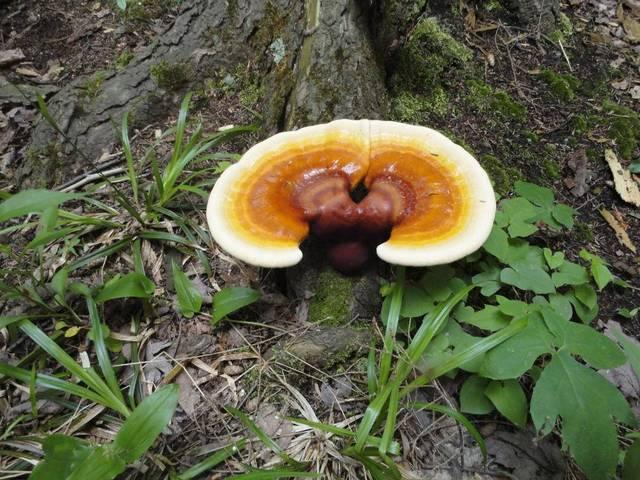Non-edible Mushroom: (204, 117, 497, 272)
